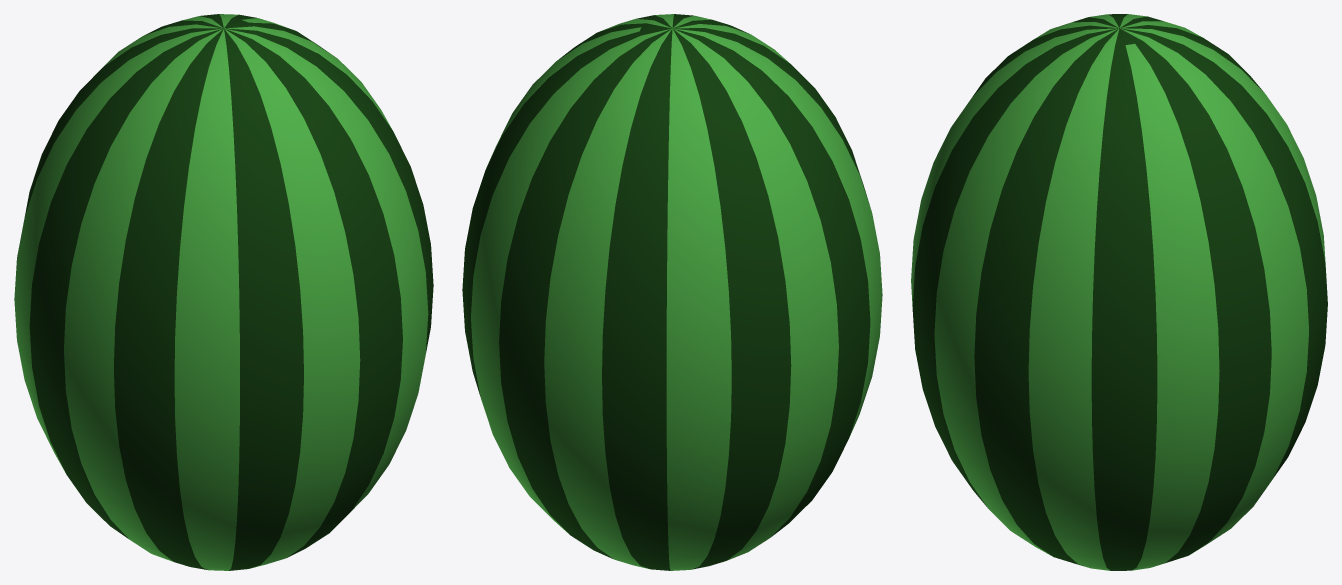
File: Watermelon.fbx
3 renders of one model, left to right at view 1: azimuth 30°, elevation 25°; view 2: azimuth 150°, elevation 25°; view 3: azimuth 270°, elevation 25°, orthographic.
Visible parts, largest first — view 1: pSphere7; view 2: pSphere7; view 3: pSphere7.
Boxes of the visible parts, bbox=[...] form: pSphere7: bbox=[14, 14, 433, 570]; pSphere7: bbox=[462, 14, 882, 570]; pSphere7: bbox=[911, 14, 1327, 570].
Bounding box in the file's own units: 1.98 × 2.77 × 1.98.
